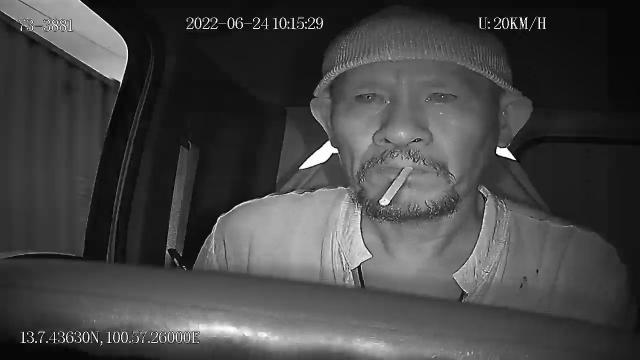SafeDriving: (416, 78, 468, 110), (345, 80, 395, 110)
Smoking: (378, 165, 414, 210)
